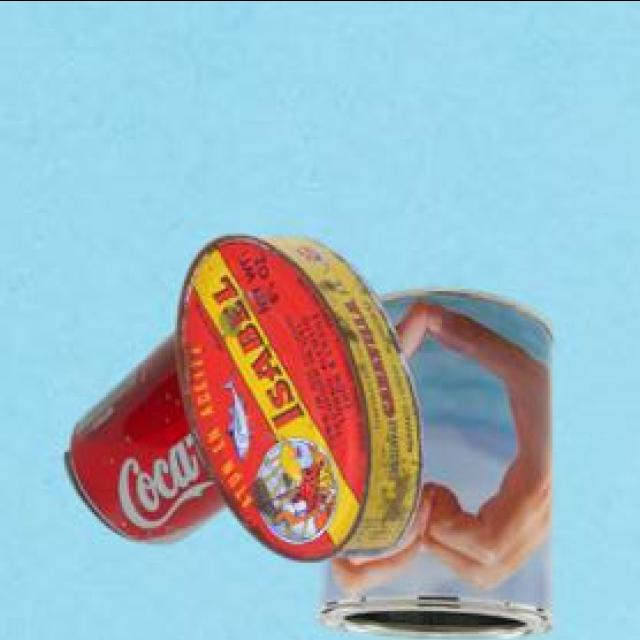logam: (314, 291, 551, 640), (176, 238, 420, 565), (61, 333, 224, 547)
